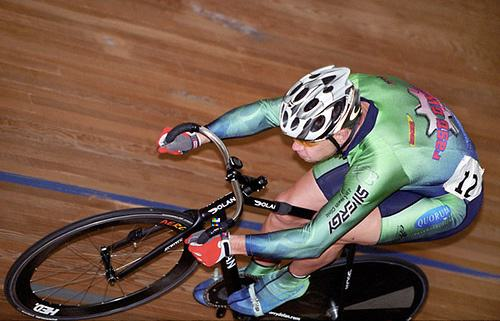car: (2, 124, 431, 321)
person: (158, 64, 486, 317)
